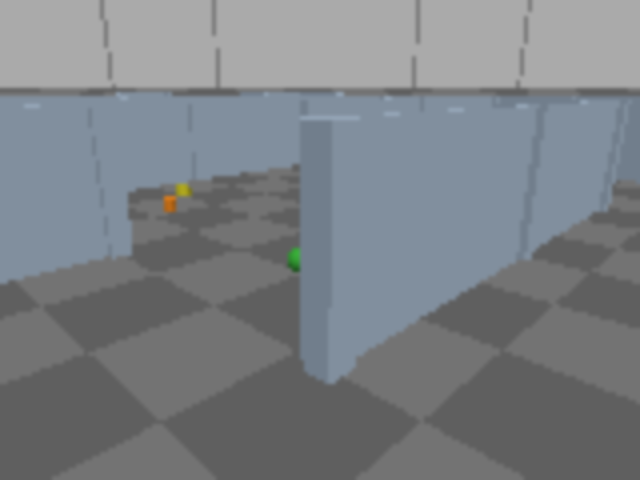puck: (283, 244, 313, 276)
